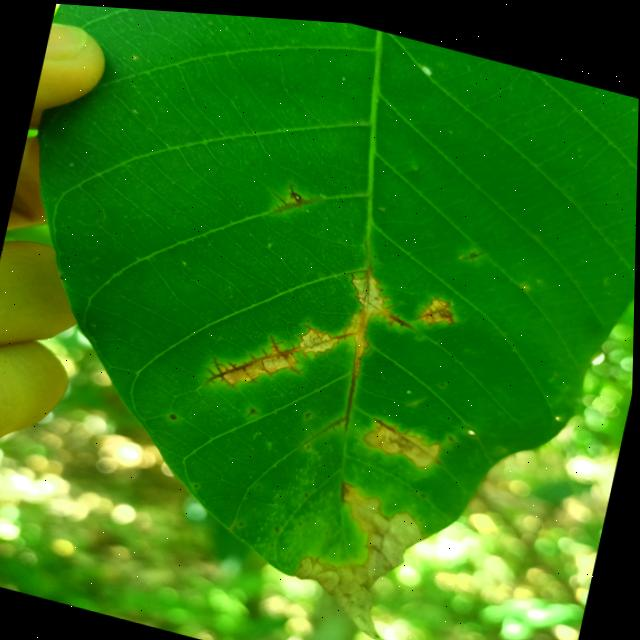Corynespora: (203, 293, 357, 415), (321, 251, 397, 431), (269, 175, 324, 221), (415, 284, 463, 326), (375, 293, 419, 326), (372, 411, 417, 435), (339, 475, 357, 501)
Leaf-Blight: (286, 471, 435, 640), (367, 416, 447, 467)
